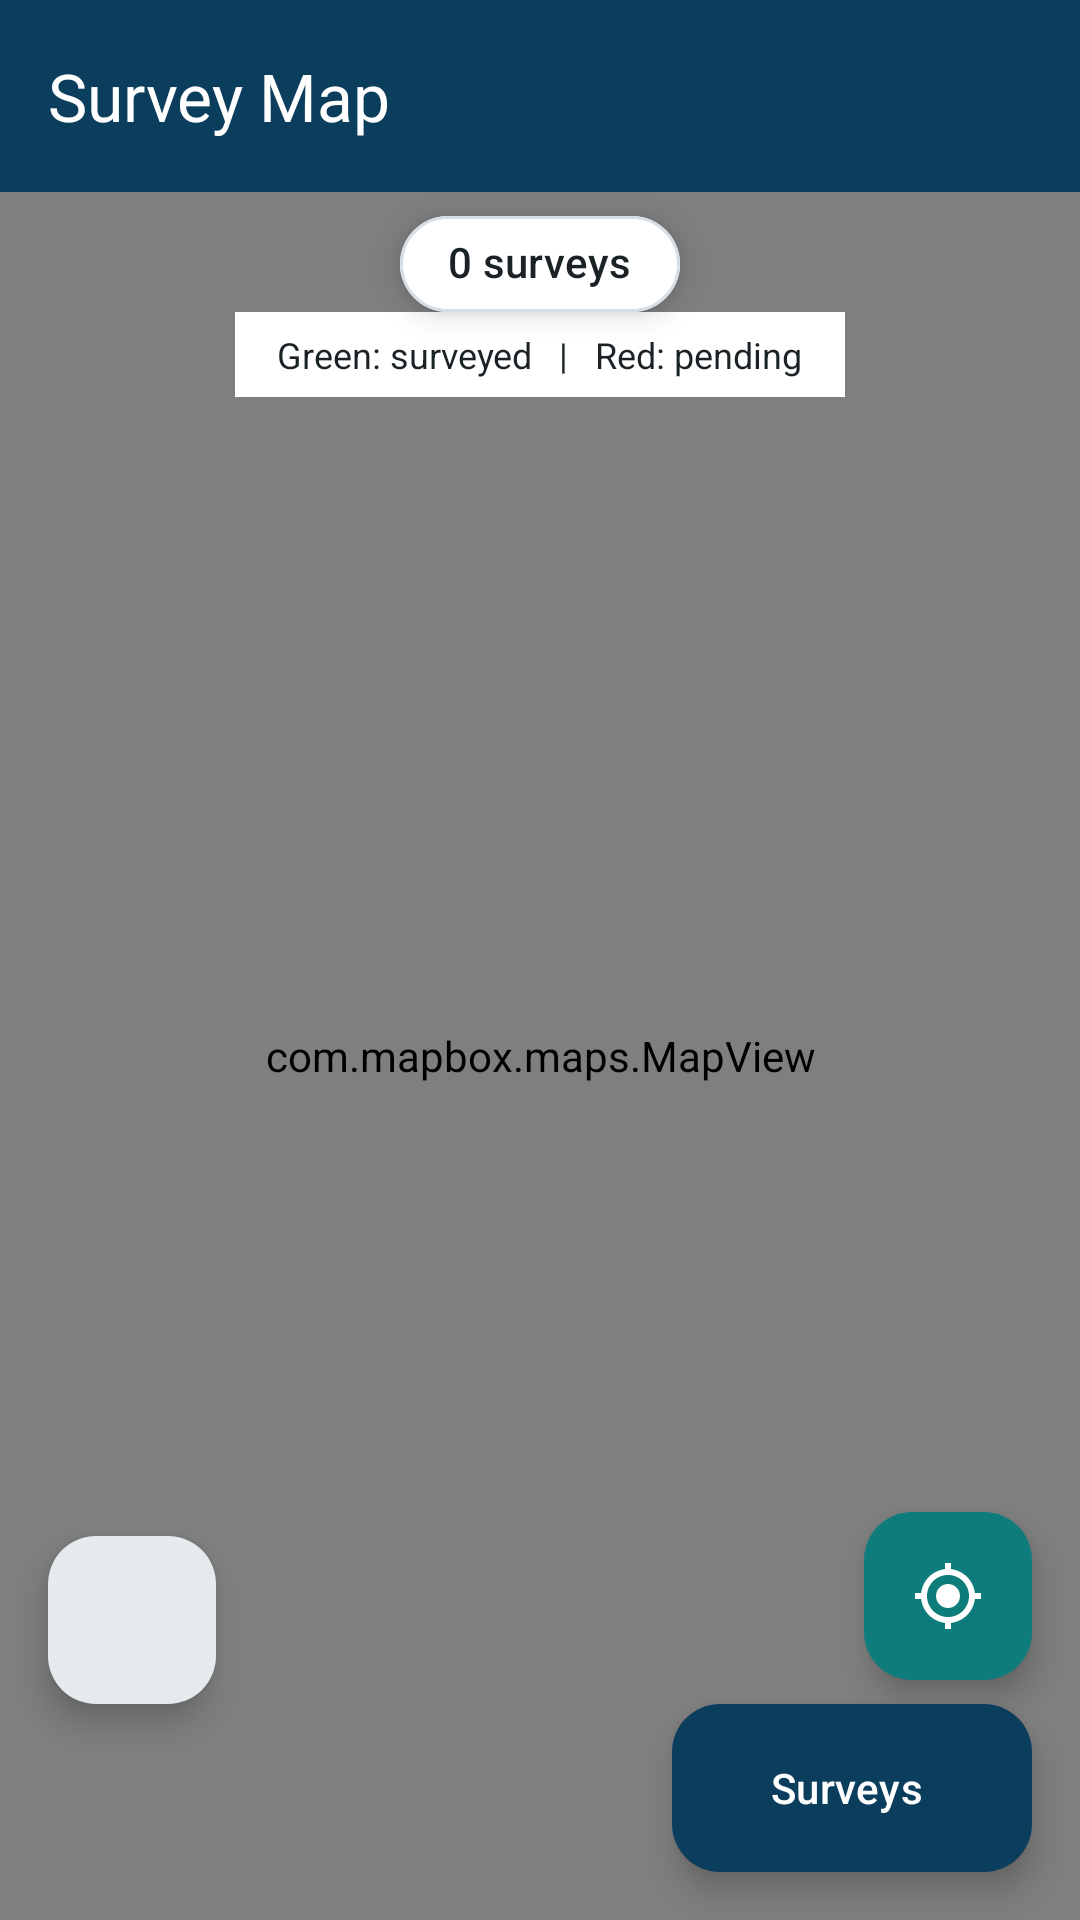

Locate icon controls on the screen. Image size 1080px x 1920px, boxes as [x1=x1, y1=y1, x2=x2, y2=y2].
My Location: [x1=864, y1=1512, x2=1032, y2=1680]
